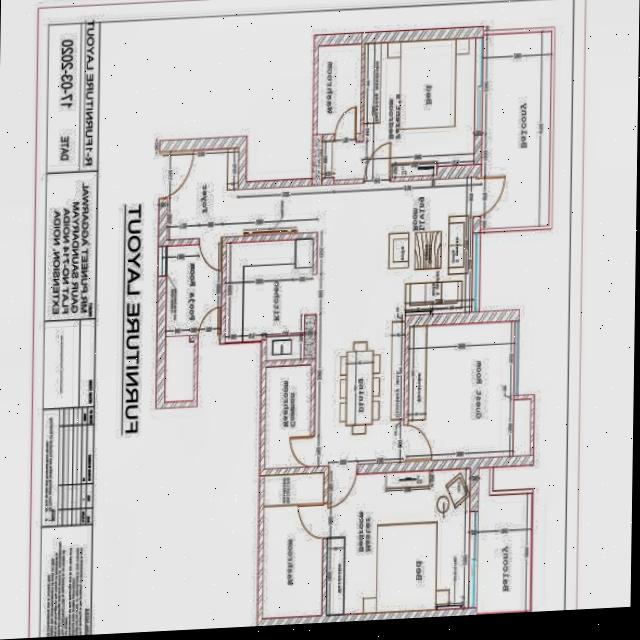room: (315, 39, 482, 181), (319, 470, 477, 614), (404, 322, 532, 460), (483, 32, 551, 230), (316, 316, 405, 466), (385, 176, 473, 317), (226, 238, 311, 360), (164, 243, 219, 404), (262, 473, 322, 620), (475, 471, 528, 613), (264, 364, 311, 470), (319, 44, 361, 137)
